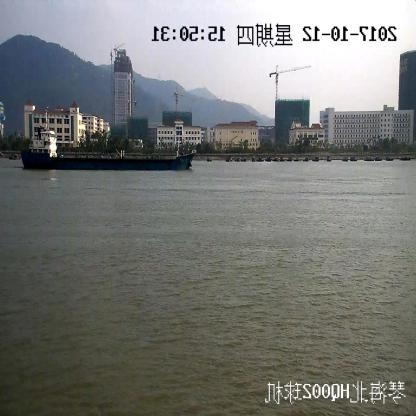Bulk Carrier: (20, 112, 194, 171)
